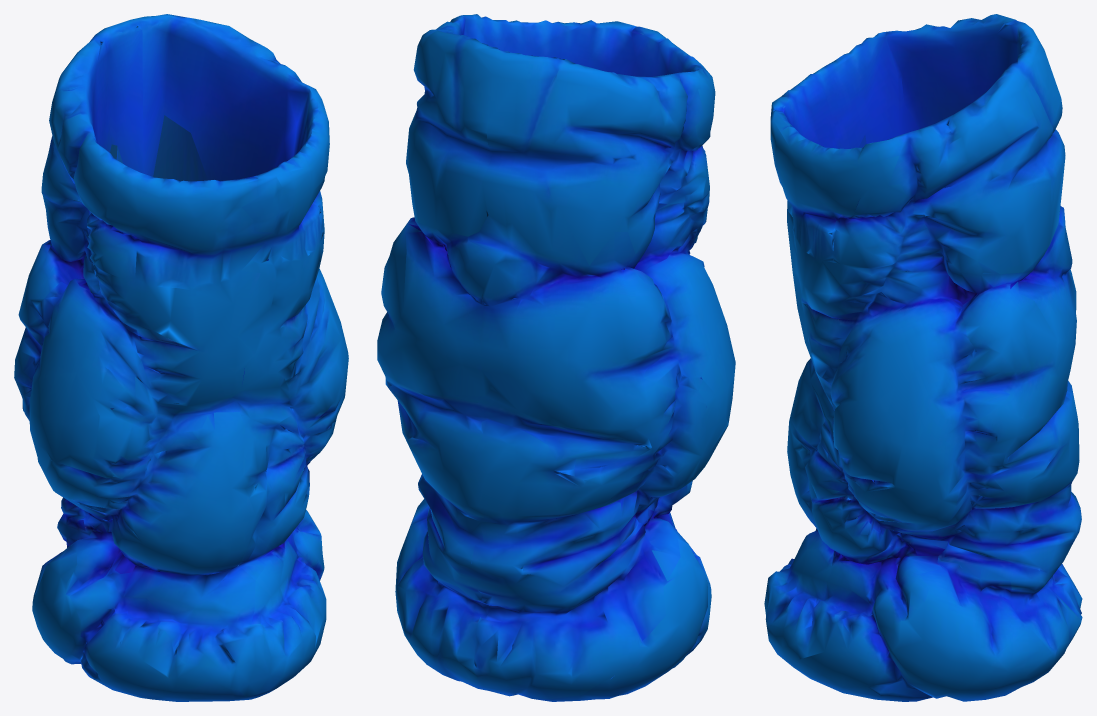
The model's file is 02_3_gs_pv_ii_s_vase.glb.
3 renders of one model, left to right at view 1: azimuth 30°, elevation 25°; view 2: azimuth 150°, elevation 25°; view 3: azimuth 270°, elevation 25°, orthographic. The views are drawn at different scales.
Visible parts, largest first — view 1: tripo_material_30cd3fdd-a4f8-4ca0-9b30-f44c7f31c2cc.006; view 2: tripo_material_30cd3fdd-a4f8-4ca0-9b30-f44c7f31c2cc.006; view 3: tripo_material_30cd3fdd-a4f8-4ca0-9b30-f44c7f31c2cc.006.
Boxes of the visible parts, <box> form: tripo_material_30cd3fdd-a4f8-4ca0-9b30-f44c7f31c2cc.006: <box>14,14,348,701</box>; tripo_material_30cd3fdd-a4f8-4ca0-9b30-f44c7f31c2cc.006: <box>377,14,735,701</box>; tripo_material_30cd3fdd-a4f8-4ca0-9b30-f44c7f31c2cc.006: <box>764,14,1082,701</box>.
Bounding box in the file's own units: 0.1802 × 0.3401 × 0.1601.
1 material, 1 textured.
